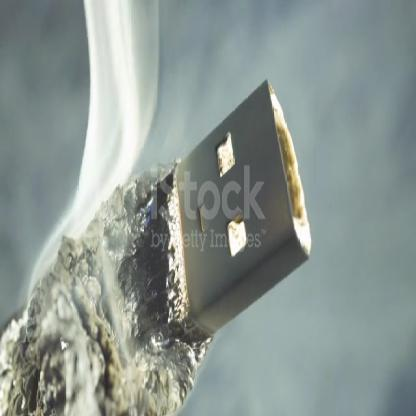smoke: (20, 0, 416, 416)
